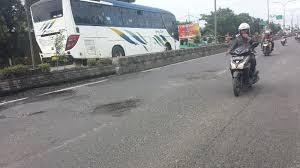Pothole: (8, 77, 68, 113), (193, 61, 233, 88), (93, 98, 151, 116)
